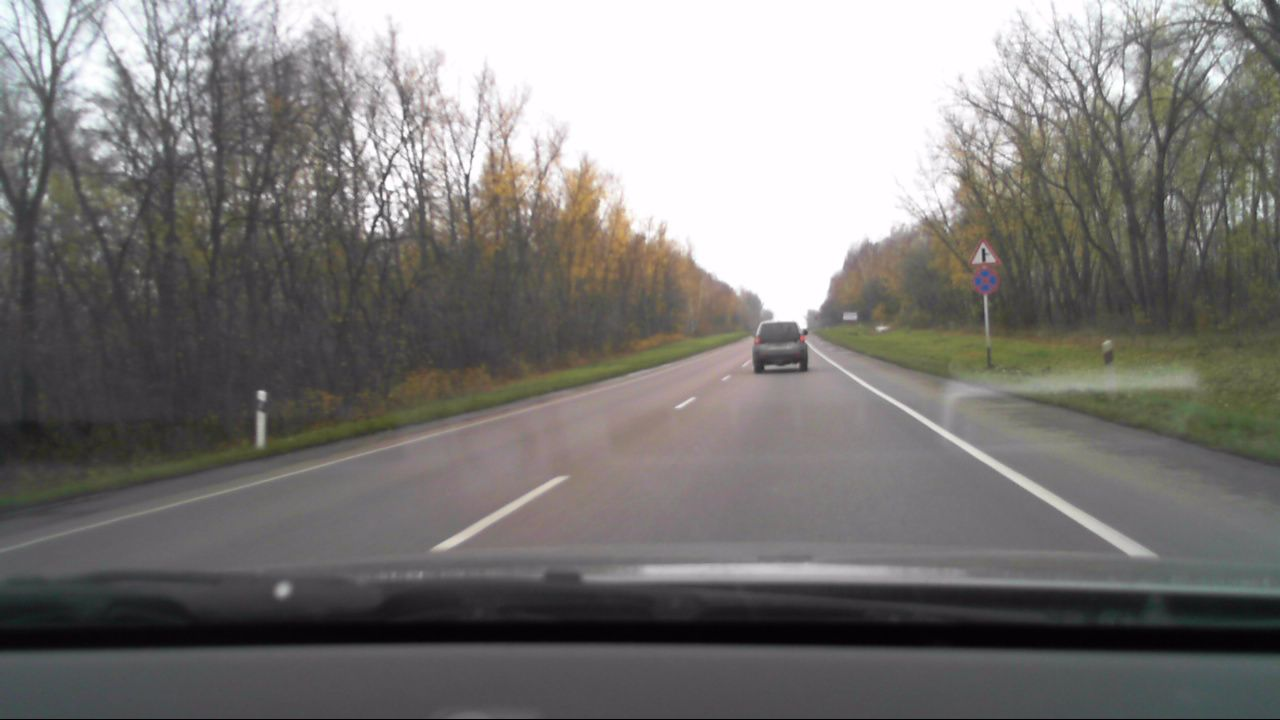No Parking: (970, 267, 1001, 295)
